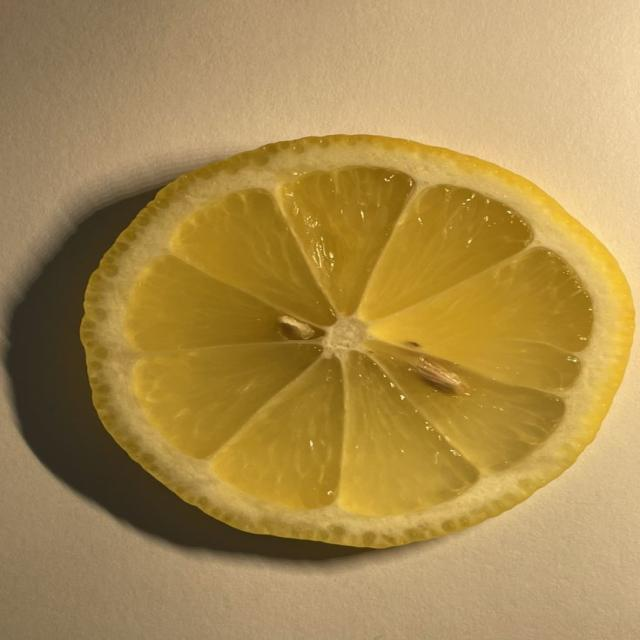lemon: (82, 136, 633, 546)
